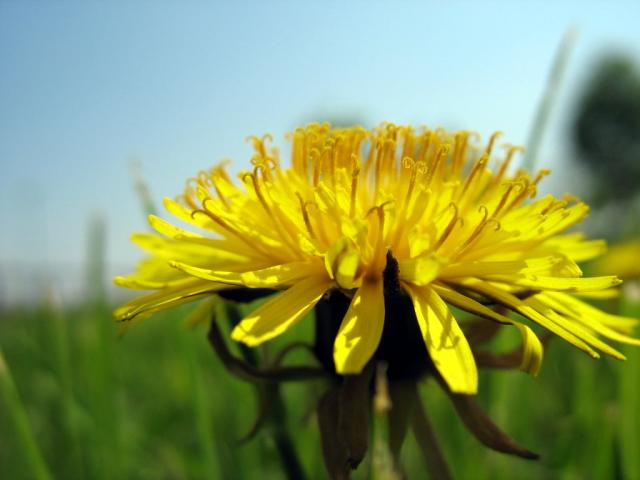dandelion: (183, 128, 569, 323)
